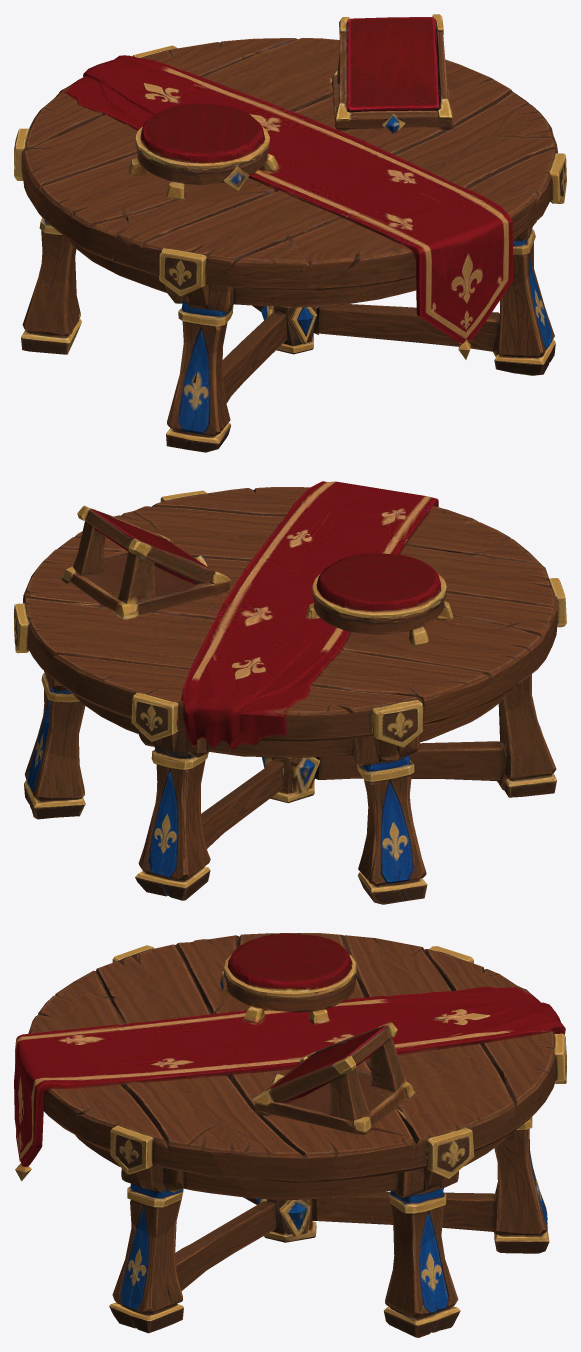
The model's file is feast-trophy-table.glb.
3 renders of one model, top to bottom at view 1: azimuth 30°, elevation 25°; view 2: azimuth 150°, elevation 25°; view 3: azimuth 270°, elevation 25°, orthographic.
Parts seen in each view (by area): view 1: output_unwrapped; view 2: output_unwrapped; view 3: output_unwrapped.
Boxes of the visible parts, x1,y1,x2,y2 form: output_unwrapped: (14,14,566,452); output_unwrapped: (14,481,566,904); output_unwrapped: (14,933,566,1337).
Bounding box in the file's own units: 1.82 × 1.03 × 1.9.
Materials: 1 (1 with a texture image).
